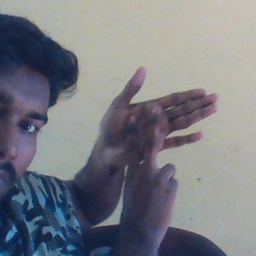N: (89, 64, 222, 200)
